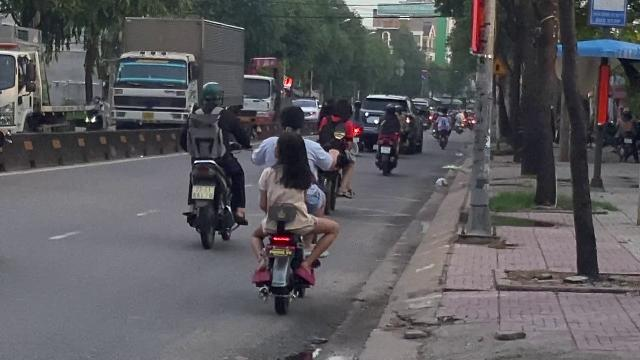helmet: (198, 82, 224, 108)
licenseplate: (191, 184, 213, 198)
motorcyclist: (246, 100, 340, 318), (178, 80, 250, 248)
nohelmet: (272, 130, 312, 180), (276, 104, 306, 134)
